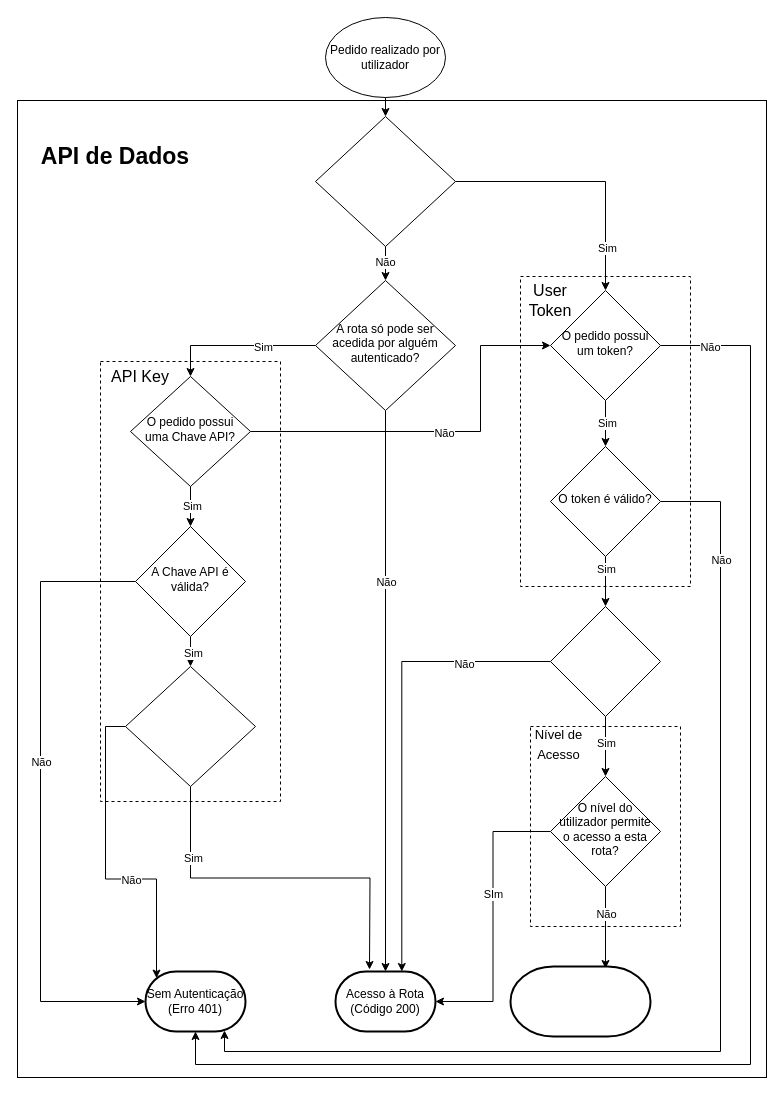
Image size: 784x1095. Some labels were removed from this diagram. The centre of each missing label's shape, as x and y in pixels:
A Chave API está ativa?: the point at 190,726
A rota só pode ser acedida por utilizadores?: the point at 385,181
A rota só pode ser acedido por utilizadores específicos?: the point at 605,661
Sem autorização, sem permissões (Erro 403): the point at 580,1001
